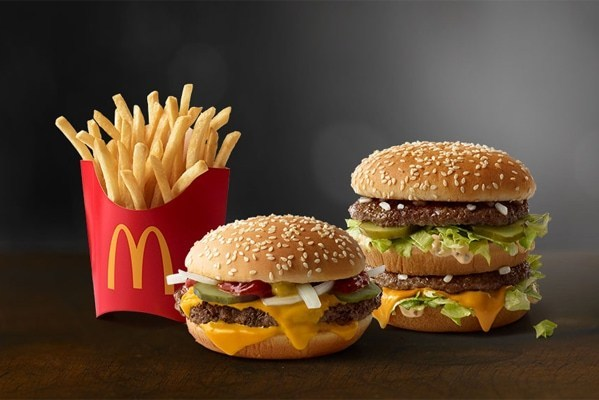mcdonalds: (101, 221, 181, 300)
